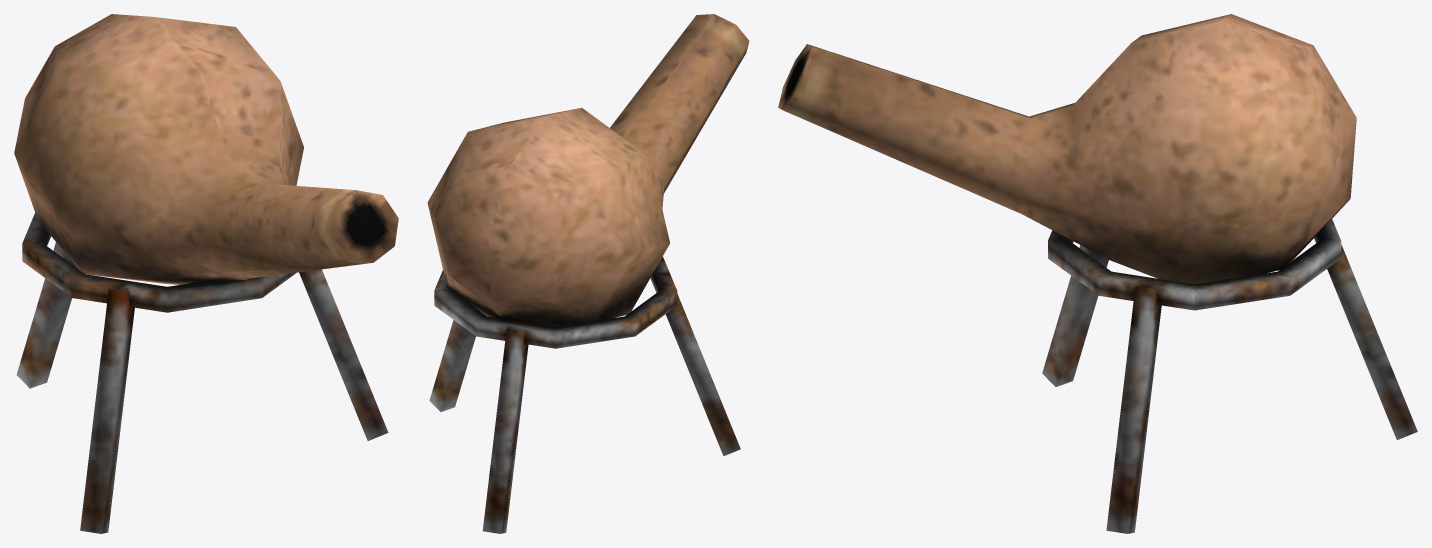
File: chem_vial01.dae
3 views of the same model, side by side, from view 1: azimuth 30°, elevation 25°; view 2: azimuth 150°, elevation 25°; view 3: azimuth 270°, elevation 25° (orthographic). The views are drawn at different scales.
Visible parts, largest first — view 1: chem_vial01; view 2: chem_vial01; view 3: chem_vial01.
Boxes of the visible parts, x1=… form: chem_vial01: x1=14, y1=14, x2=398, y2=533; chem_vial01: x1=427, y1=14, x2=749, y2=533; chem_vial01: x1=778, y1=14, x2=1417, y2=533.
Size of the model in its own units: 0.2541 by 0.3047 by 0.4121.
